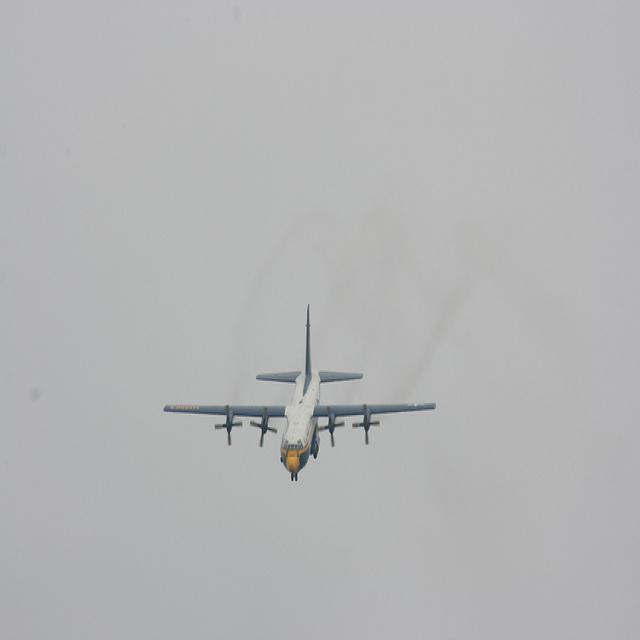airplane: (162, 301, 438, 483)
